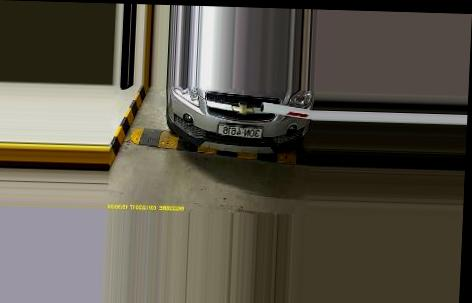License_Plate: (214, 123, 263, 142)
